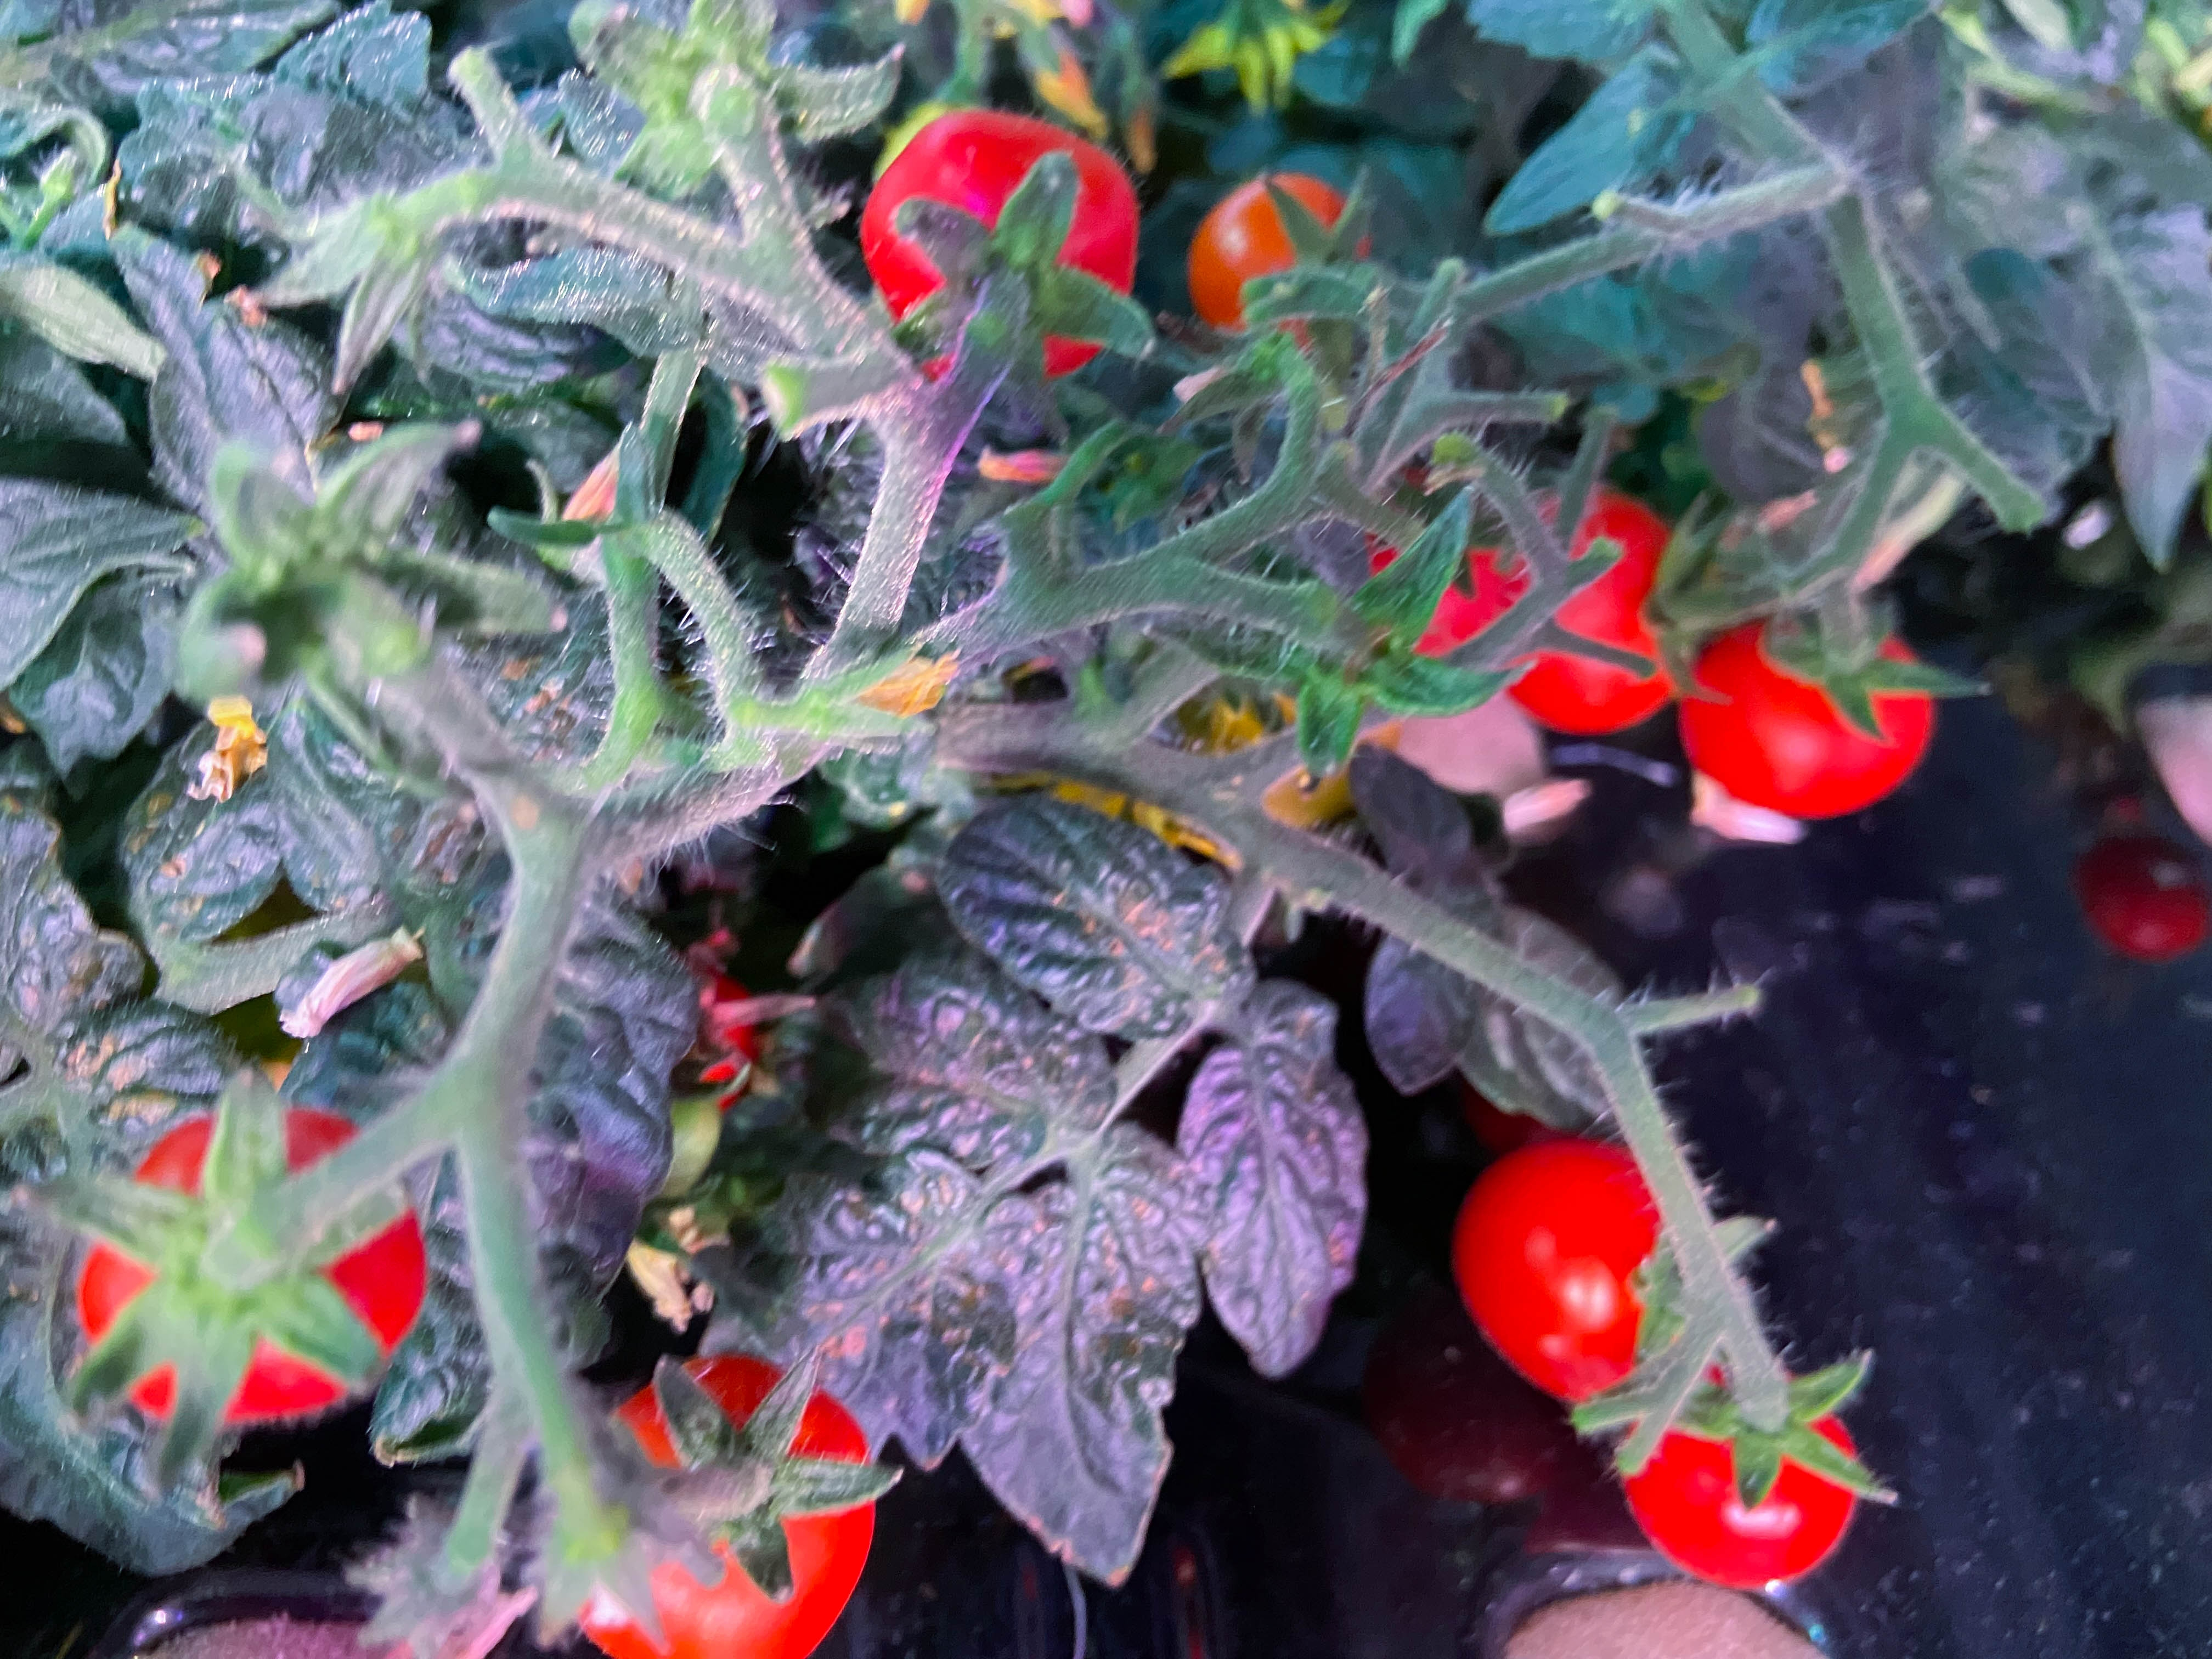green: (2142, 5, 2212, 141)
red: (78, 1103, 430, 1419), (578, 1351, 881, 1659), (859, 106, 1143, 382), (1451, 1129, 1709, 1401), (1676, 596, 1930, 817), (1625, 1359, 1860, 1588), (1477, 491, 1698, 734), (1184, 167, 1376, 354), (1378, 523, 1534, 697), (2055, 798, 2212, 965), (672, 978, 772, 1108)
